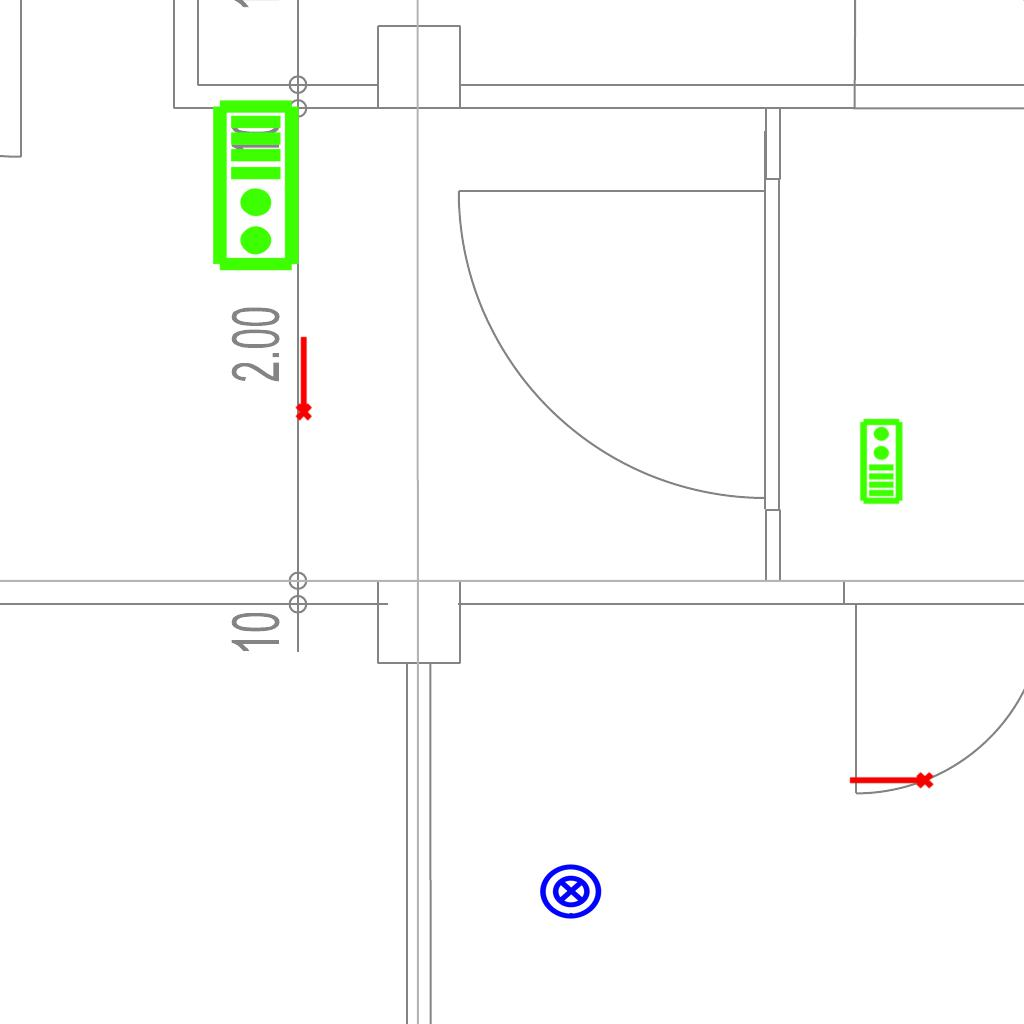ASR_Ansaugoeffnung: (291, 334, 314, 422), (847, 770, 935, 793)
Gegensprechanlage_mit_Video: (210, 98, 305, 274), (857, 417, 904, 505)
Taster_beleuchtet: (538, 858, 604, 924)
